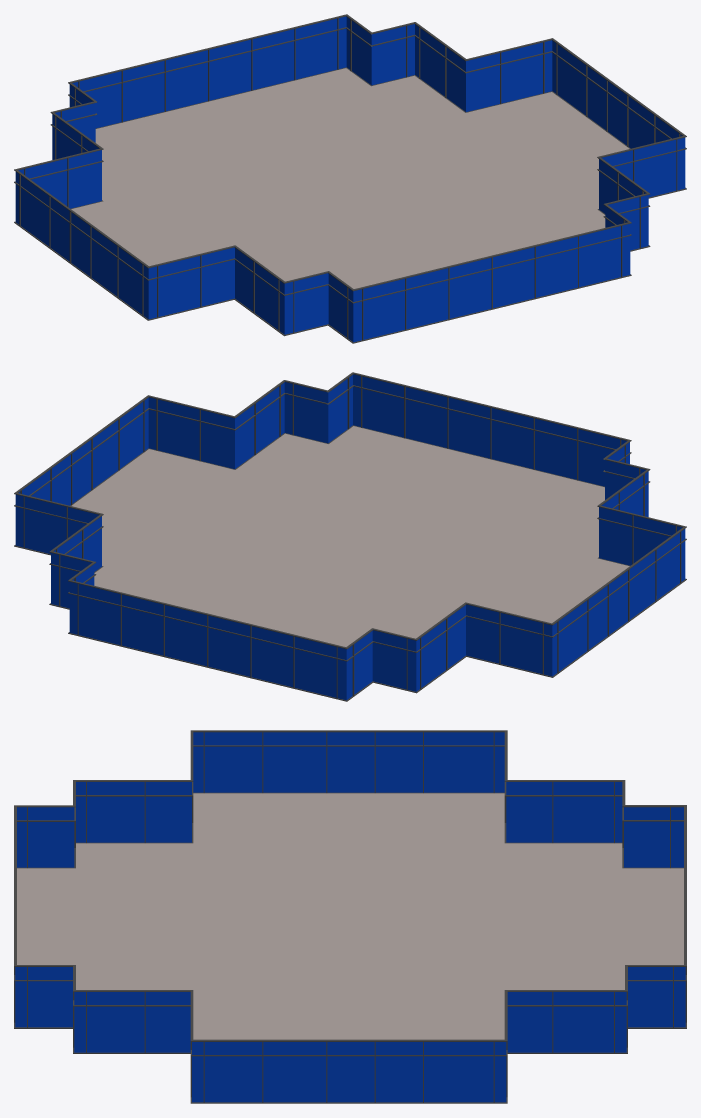
The model's file is floor26123.glb.
3 views of the same model, one above another, from view 1: azimuth 30°, elevation 25°; view 2: azimuth 150°, elevation 25°; view 3: azimuth 270°, elevation 25° (orthographic). The views are drawn at different scales.
Visible parts, largest first — view 1: Floor plans 26TH (1), Floor plans 26TH Window Glass, Floor plans 26TH Window Joinery; view 2: Floor plans 26TH (1), Floor plans 26TH Window Glass, Floor plans 26TH Window Joinery; view 3: Floor plans 26TH (1), Floor plans 26TH Window Glass, Floor plans 26TH Window Joinery.
Part boxes in pixels (bbox=[...]): Floor plans 26TH (1): bbox=[71, 68, 629, 288]; Floor plans 26TH Window Glass: bbox=[15, 16, 685, 342]; Floor plans 26TH Window Joinery: bbox=[14, 14, 686, 343]; Floor plans 26TH (1): bbox=[71, 426, 629, 646]; Floor plans 26TH Window Glass: bbox=[15, 374, 685, 700]; Floor plans 26TH Window Joinery: bbox=[14, 372, 686, 701]; Floor plans 26TH (1): bbox=[17, 793, 683, 1039]; Floor plans 26TH Window Glass: bbox=[15, 732, 685, 1102]; Floor plans 26TH Window Joinery: bbox=[14, 730, 686, 1103].
Bounding box in the file's own units: 38.04 × 3.59 × 34.81.
